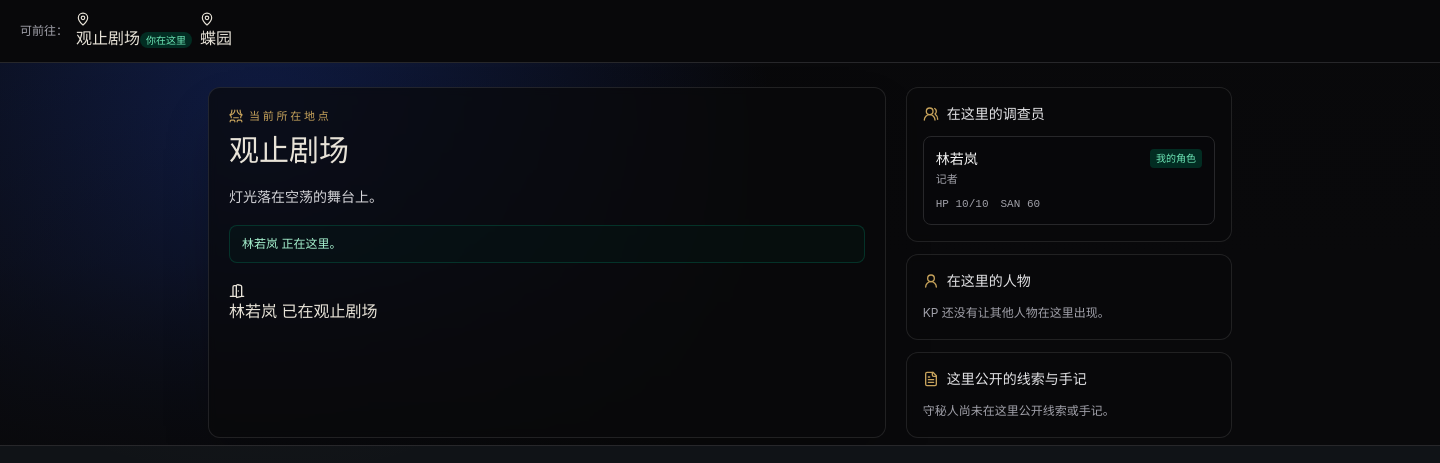
RoomWorldStage › lets a player inspect a public location and enter it with their own character
Later steps or results of the test are not shown.
Click the button with aria-label "查看地点：蝶园" at (216, 31), box [200,12,232,50]
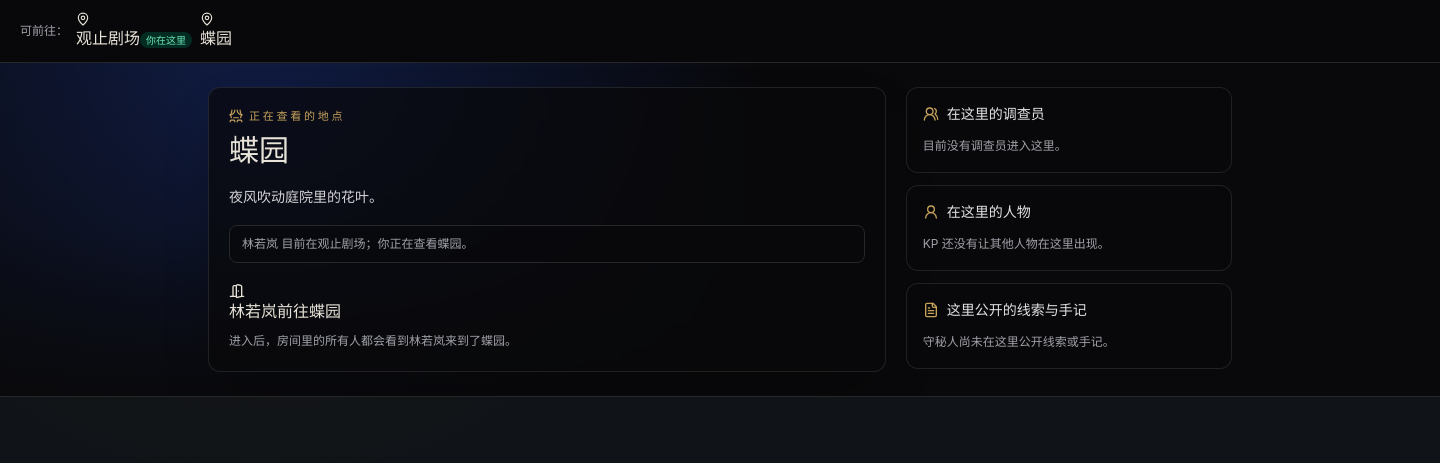
Check: the heading "蝶园" is shown, box [229,134,289,166]
Check: the message shows "林若岚 目前在观止剧场；你正在查看蝶园", box [242,236,473,250]
Check: the text "进入后，房间里的所有人都会看到林若岚来到了蝶园。" is shown, box [229,332,517,348]
